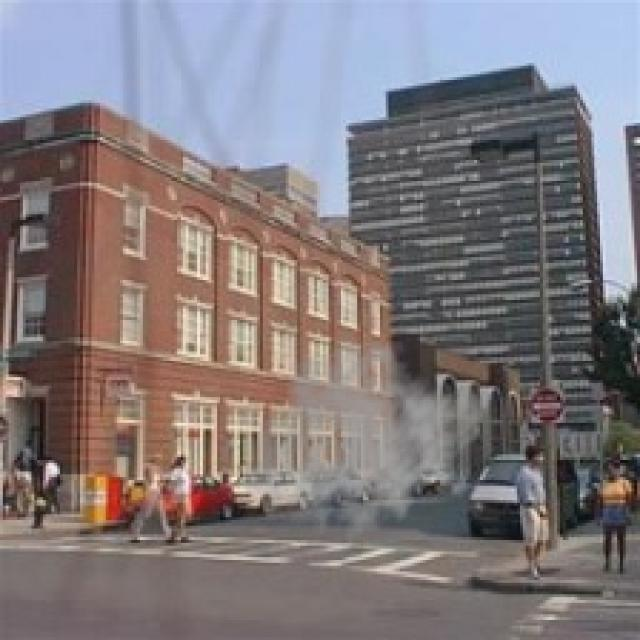smoke: (240, 329, 489, 557)
